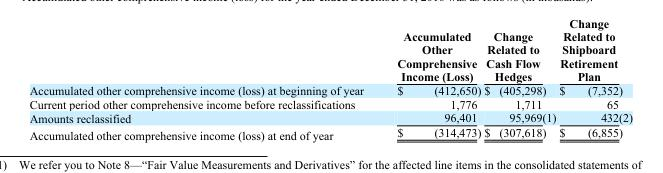table: (28, 29, 632, 141)
table column: (28, 29, 379, 141), (379, 29, 481, 141), (481, 29, 557, 141), (557, 29, 632, 141)
table column header: (28, 29, 632, 83)
table row: (28, 29, 632, 83), (28, 124, 632, 141), (28, 96, 632, 110), (28, 110, 632, 124), (28, 83, 632, 96)
